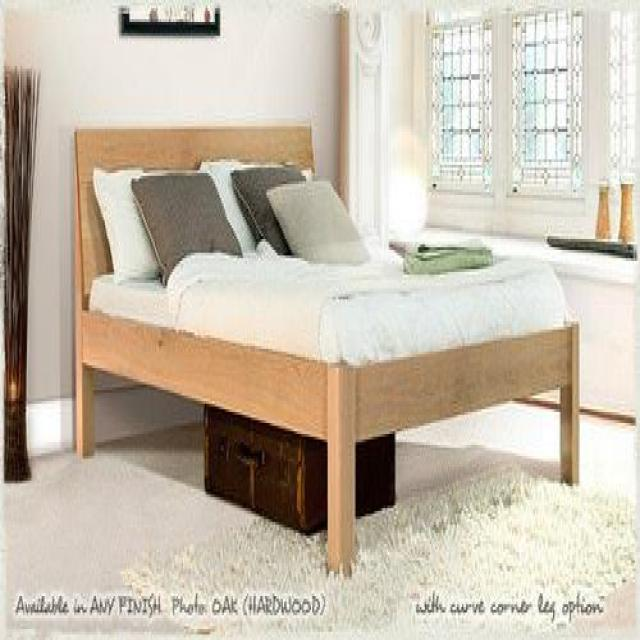bed: (72, 122, 579, 572)
